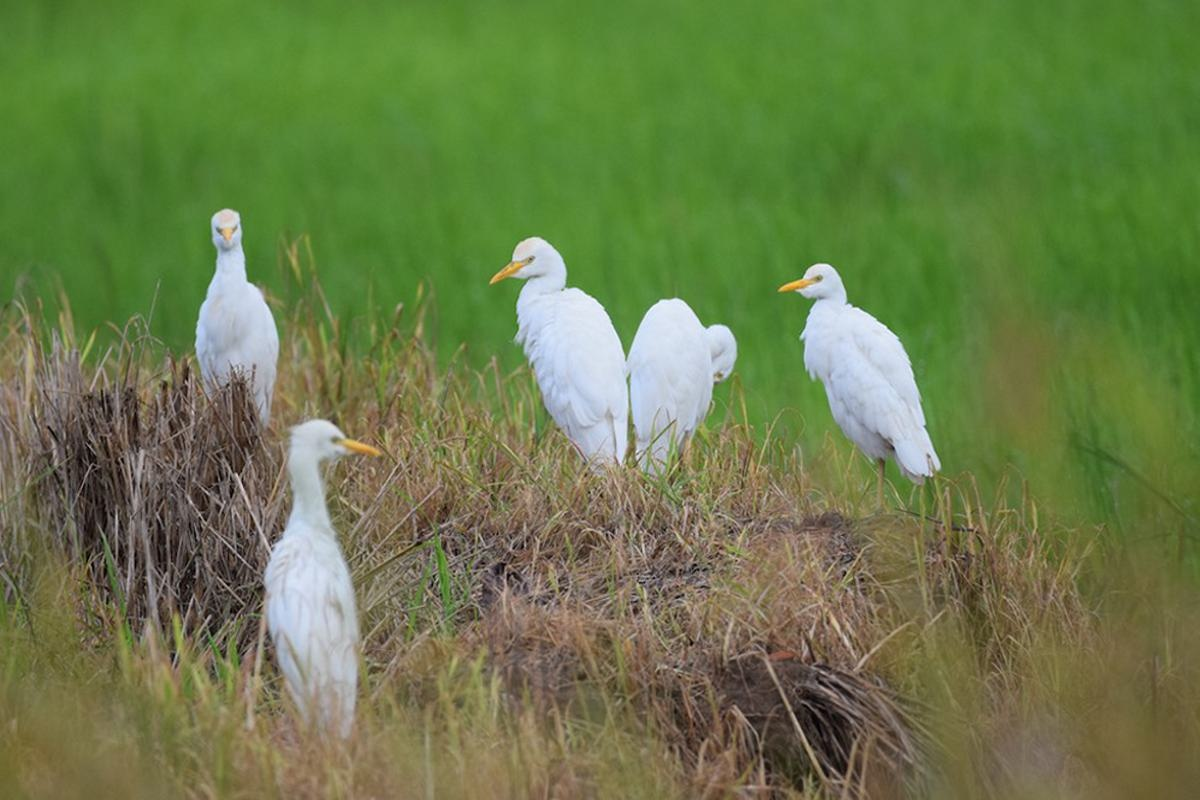egret: (251, 407, 394, 736), (779, 263, 941, 502), (480, 218, 633, 467), (202, 195, 303, 439)
